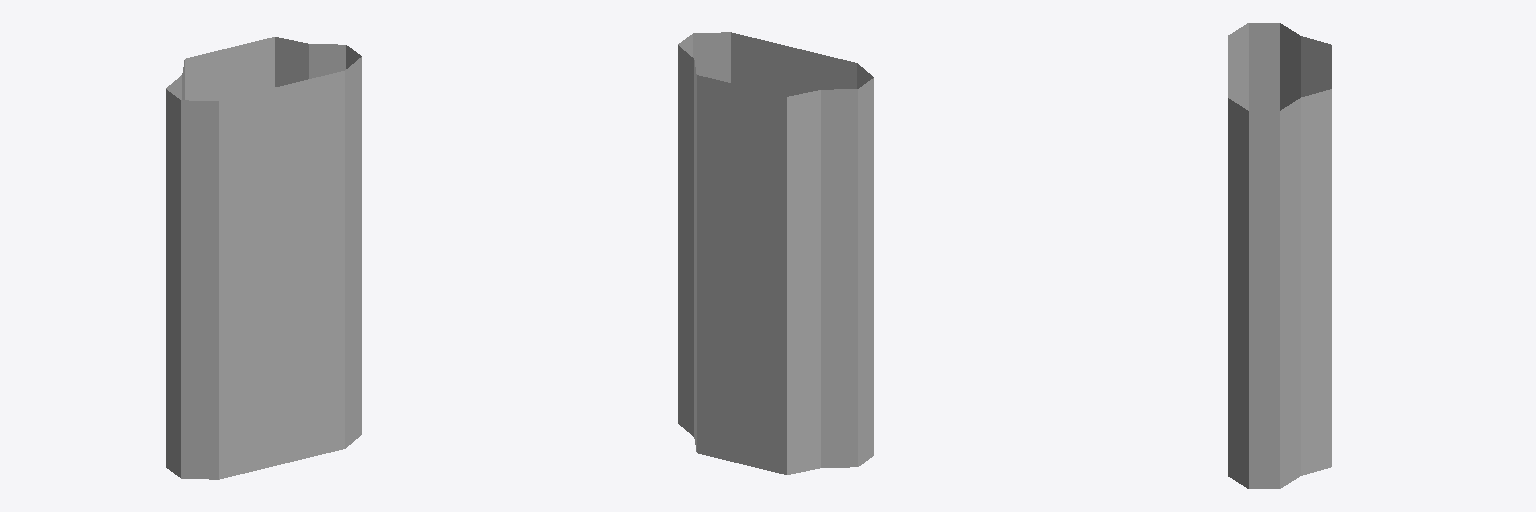
File: tunneltmp.obj
3 renders of one model, left to right at view 1: azimuth 30°, elevation 25°; view 2: azimuth 150°, elevation 25°; view 3: azimuth 270°, elevation 25°, orthographic.
Visible parts, largest first — view 1: Cube; view 2: Cube; view 3: Cube.
Part boxes in pixels (x1,y1,x2,y2): Cube: (166, 37, 361, 479); Cube: (678, 32, 873, 474); Cube: (1228, 23, 1331, 488).
Size of the model in its own units: 2 by 4 by 1.